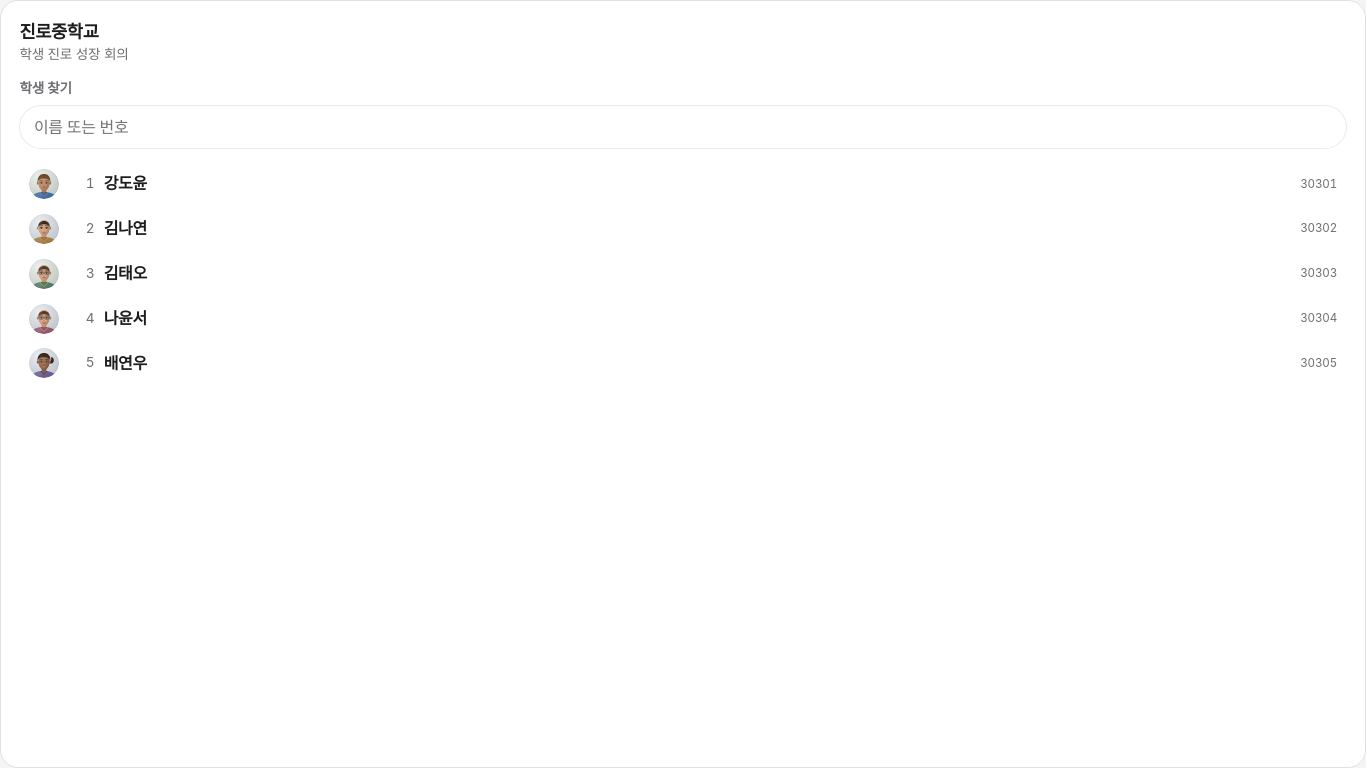
Sidebar › 이름으로 검색하면 해당 학생만 남는다
expect the link "1 강도윤 30301" is shown: met, box [19,163,1347,206]
Type "나연" into the search field labelled "학생 찾기" at (683, 127), box [19,105,1347,149]
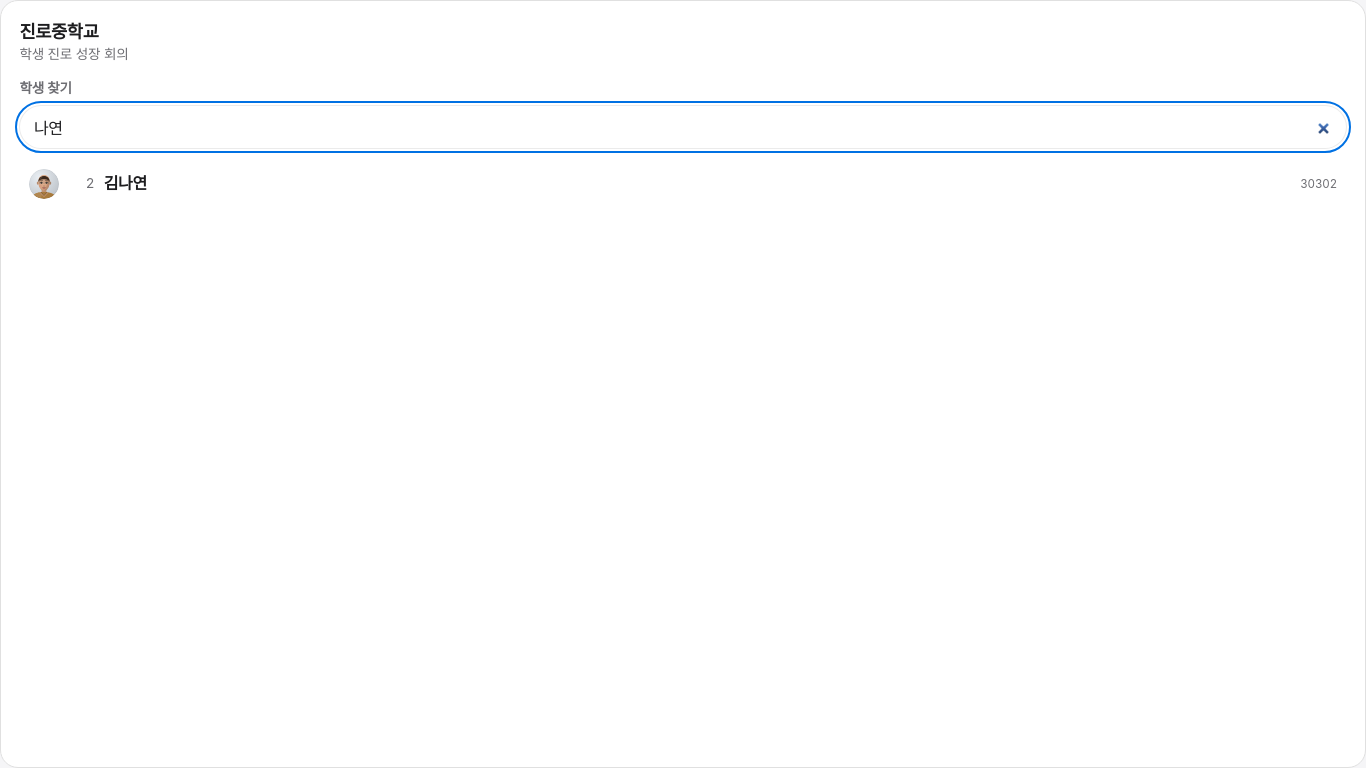
expect the link "2 김나연 30302" is shown: met, box [19,163,1347,206]
expect the link "강도윤" is gone: met
